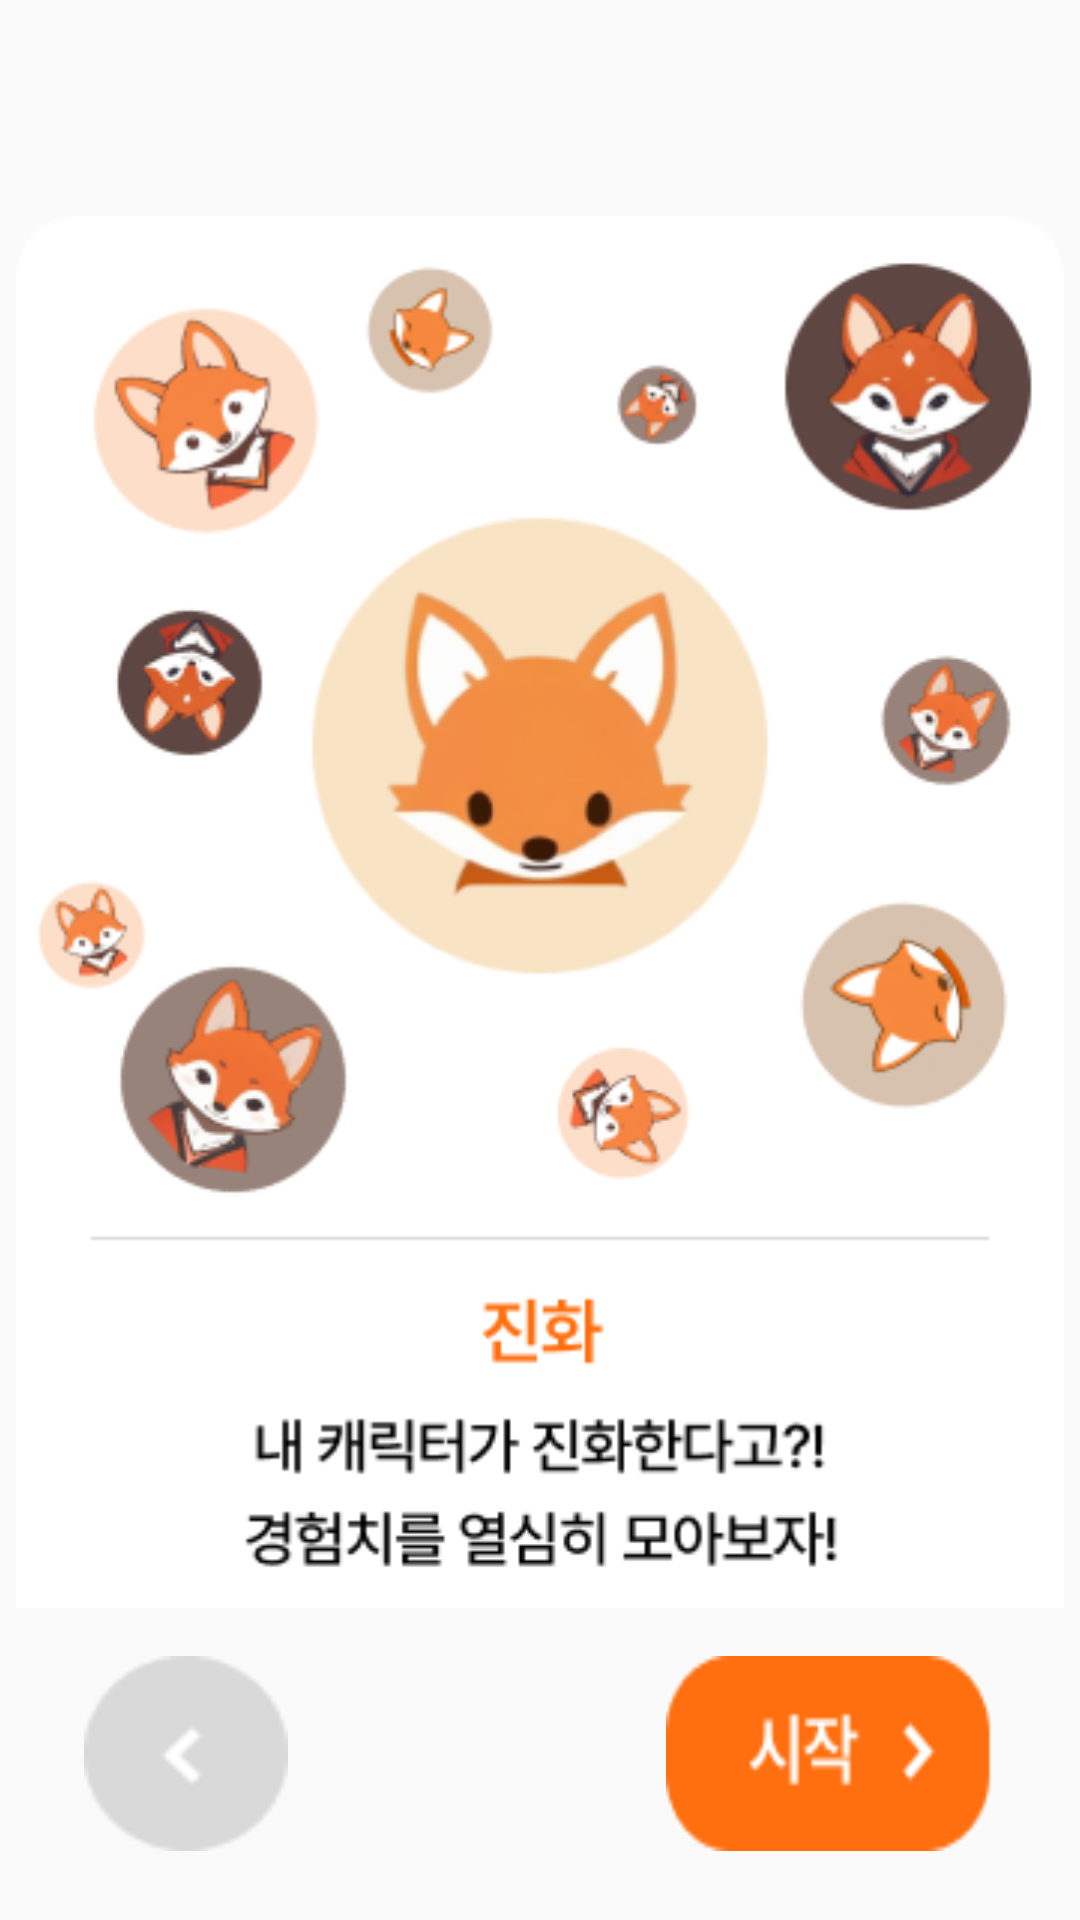

Named icons in this screenshot (1080 × 1920) and their bounding boxes, (x1, y1, x2, y2):
before8: (84, 1656, 288, 1851)
